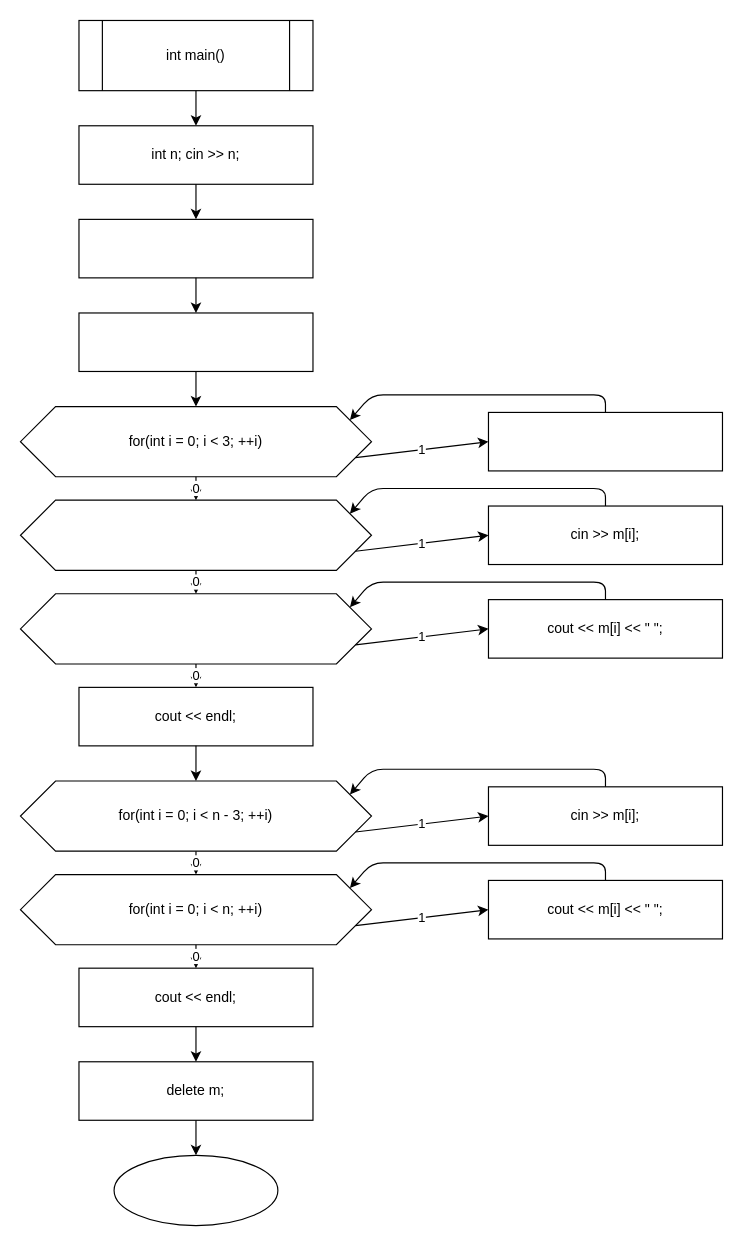
The diagram is 743 pixels wide and 1246 high, and some of its shapes have lost their labels. Here are the shapes that lost their labels. From the top down, the box of each, then its label:
(78, 218, 313, 278): int* m = new int[n];
(78, 312, 313, 371): int a[5];
(487, 411, 722, 471): cin >> a[i];
(19, 499, 371, 570): for(int i = 0; i < n + 3; ++i)
(19, 593, 371, 664): for(int i = 0; i < n+3; ++i)
(113, 1154, 278, 1226): return 0;
